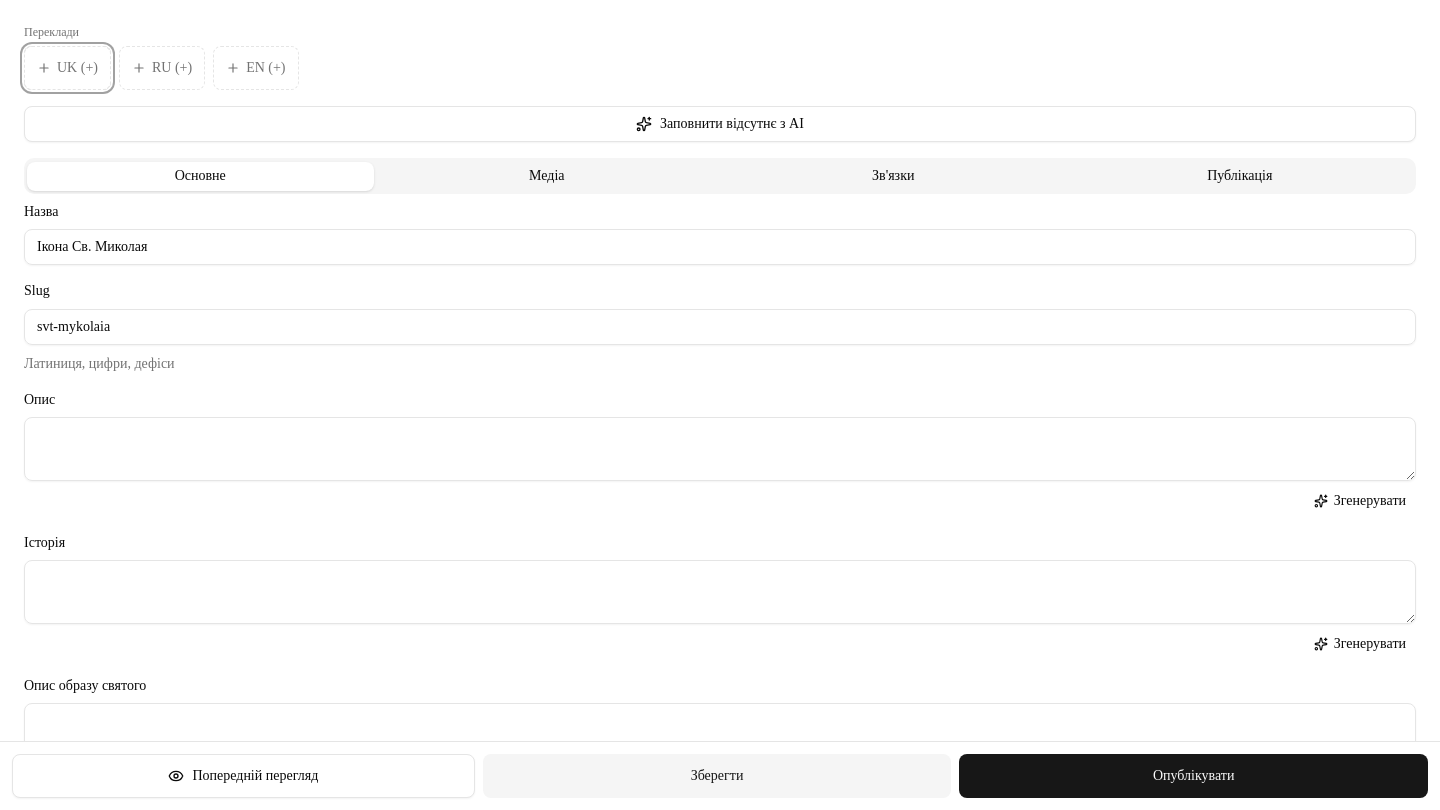
IconForm AI portfolio generation › disables the generate button when the icon has no main photo yet
Click the tab "Медіа".
click(547, 176)  # box [374,162,720,190]
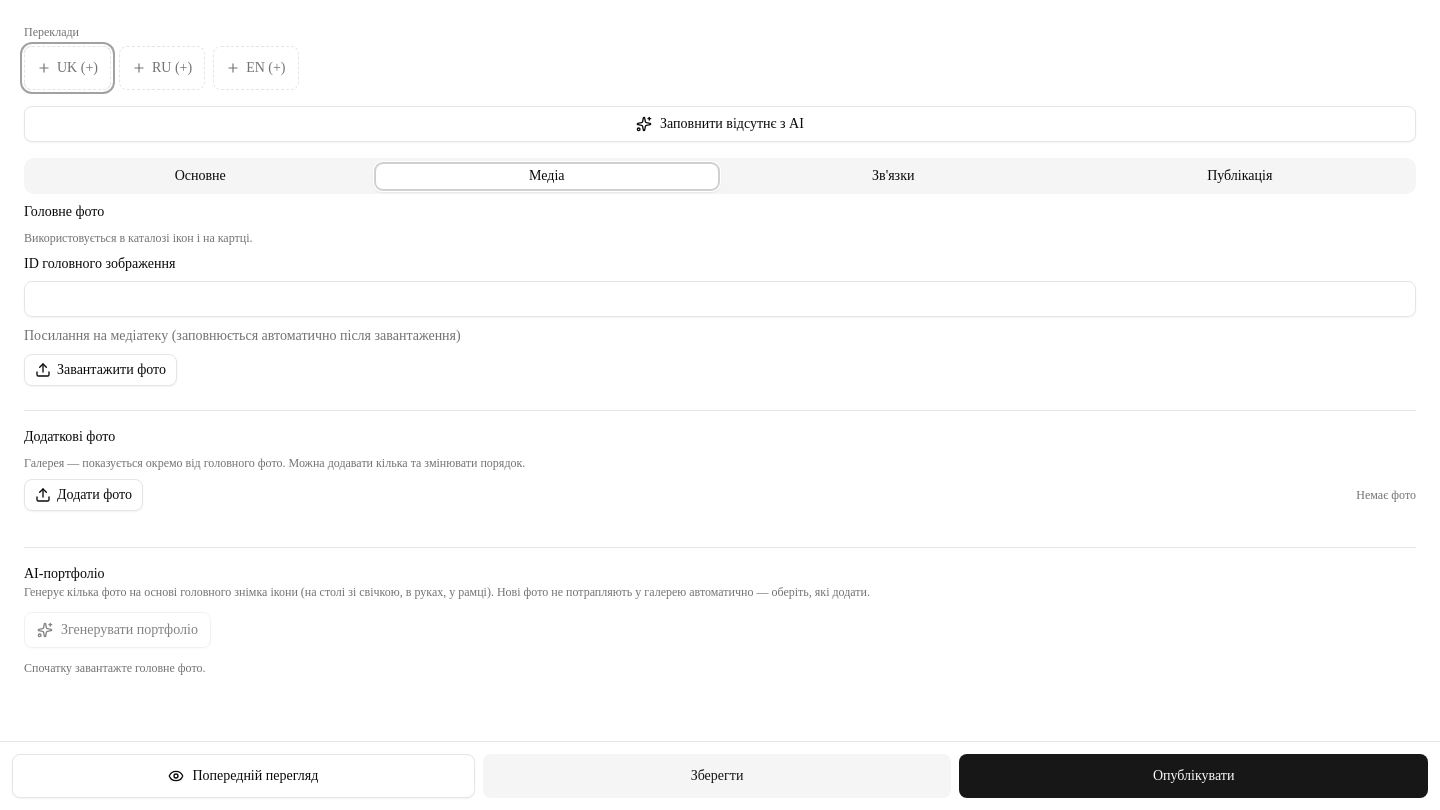
Check: the button "Згенерувати портфоліо" is disabled, box [24,612,211,648]
